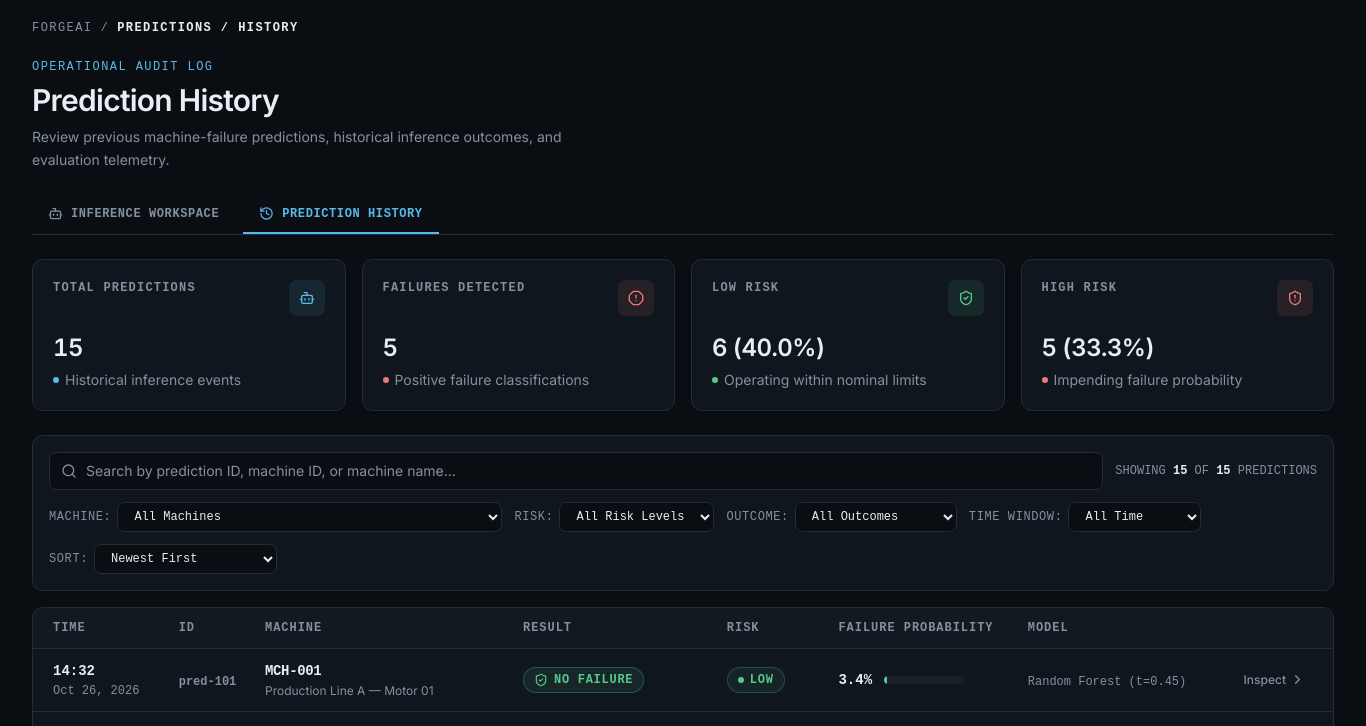
Test: Prediction History Experience (Part 10) › resets all filters when clicking Reset Filters button
In the search field with placeholder "Search by prediction ID, machine ID, or machine name...": (576, 470) [49,452,1103,490], type "NONEXISTENT_PRED_999"
(page scrolled)
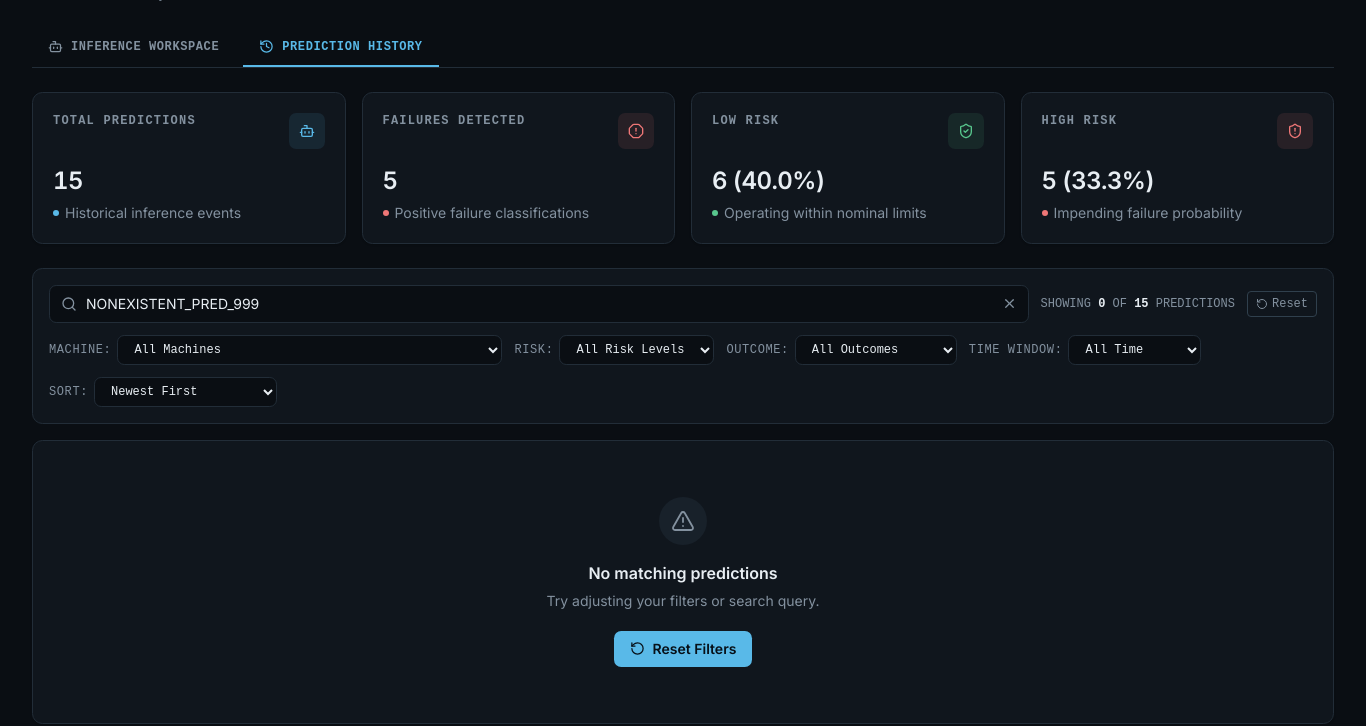
Expected: the heading "No matching predictions" is shown, [588,560,778,584]
Click the button "Reset Filters": (683, 648) [614,630,752,666]
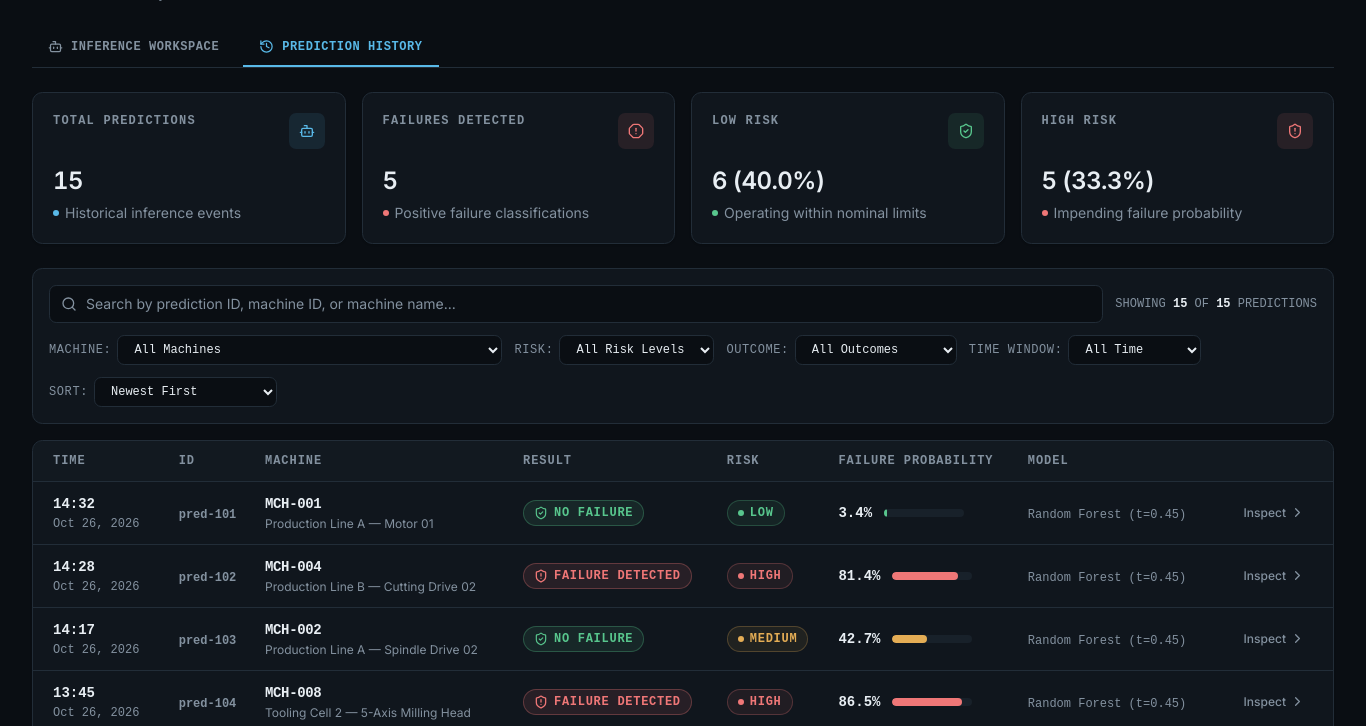
Expected: the text "pred-101" is shown, [179,508,236,522]
